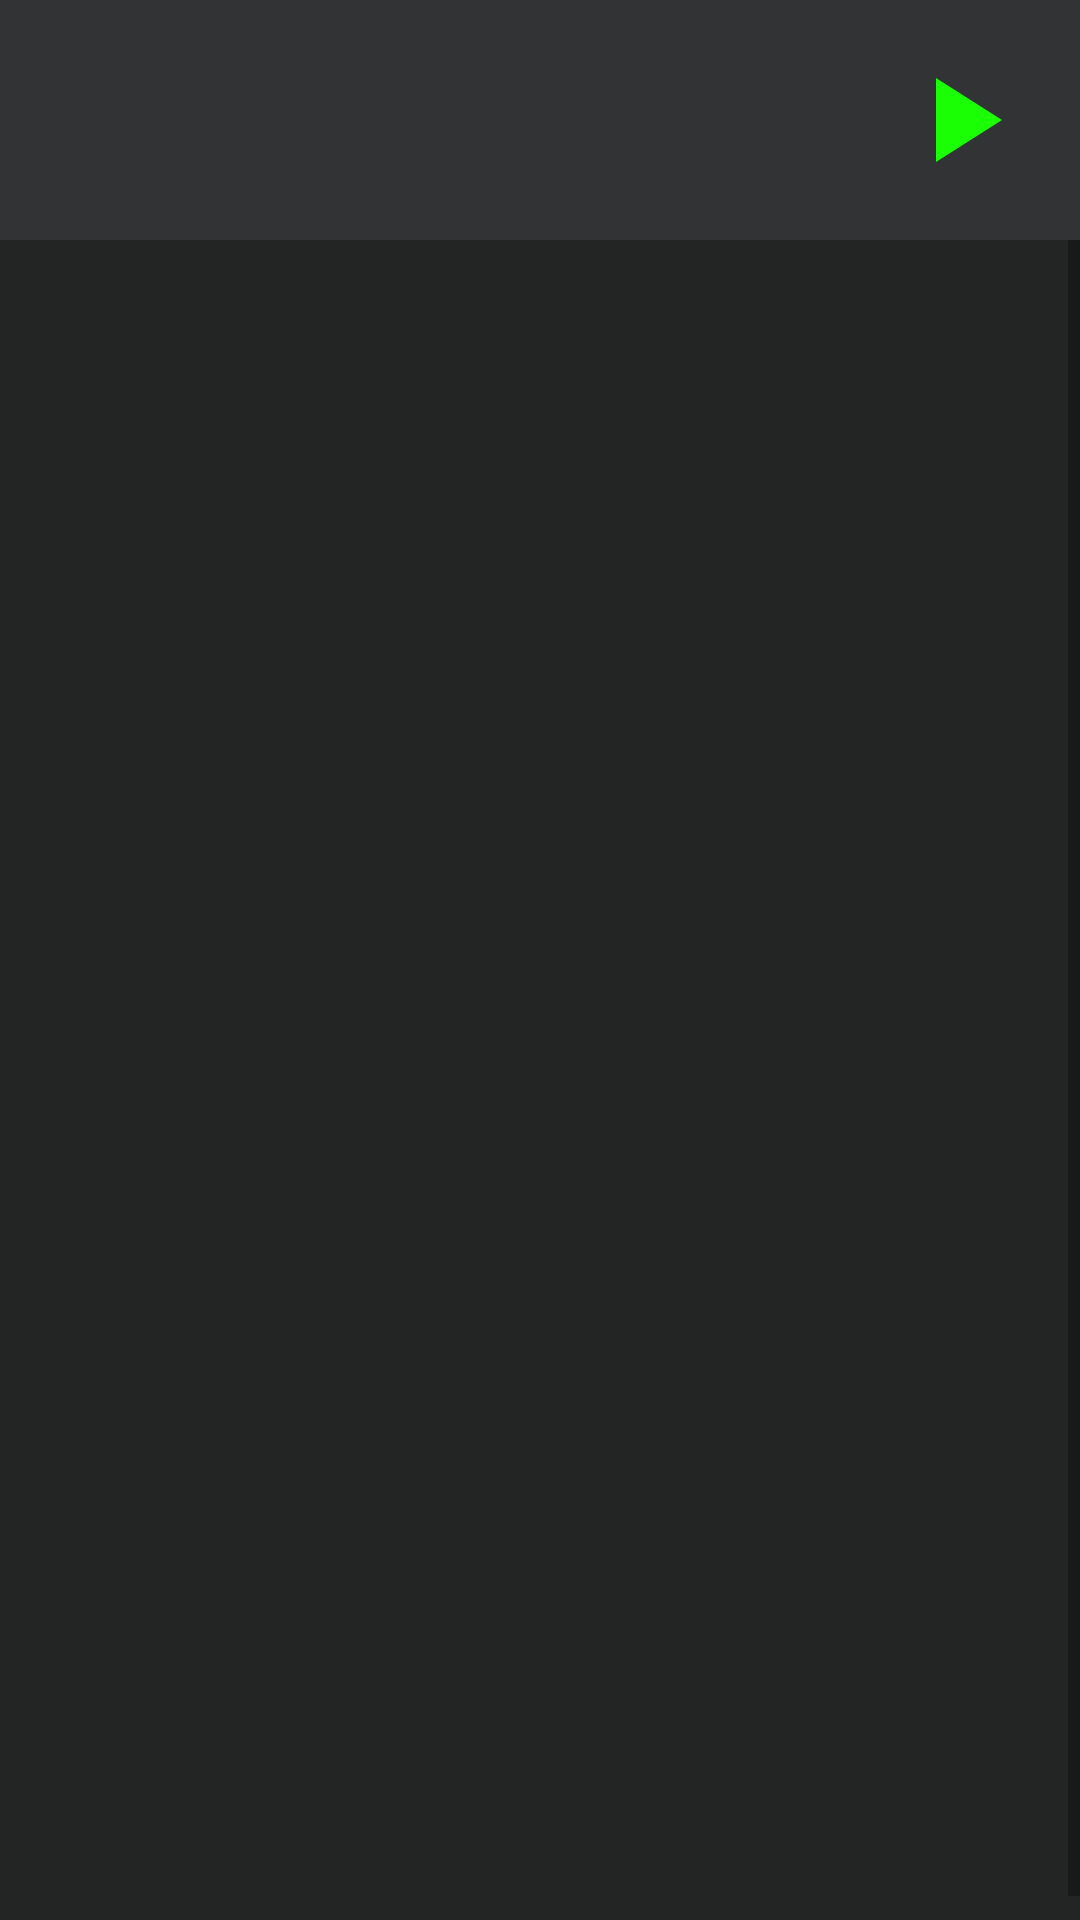

Icon bounding boxes for this 1080x1920 phone screenshot, format (x1, y1, x2, y2):
play arrow: (936, 78, 1002, 162)
